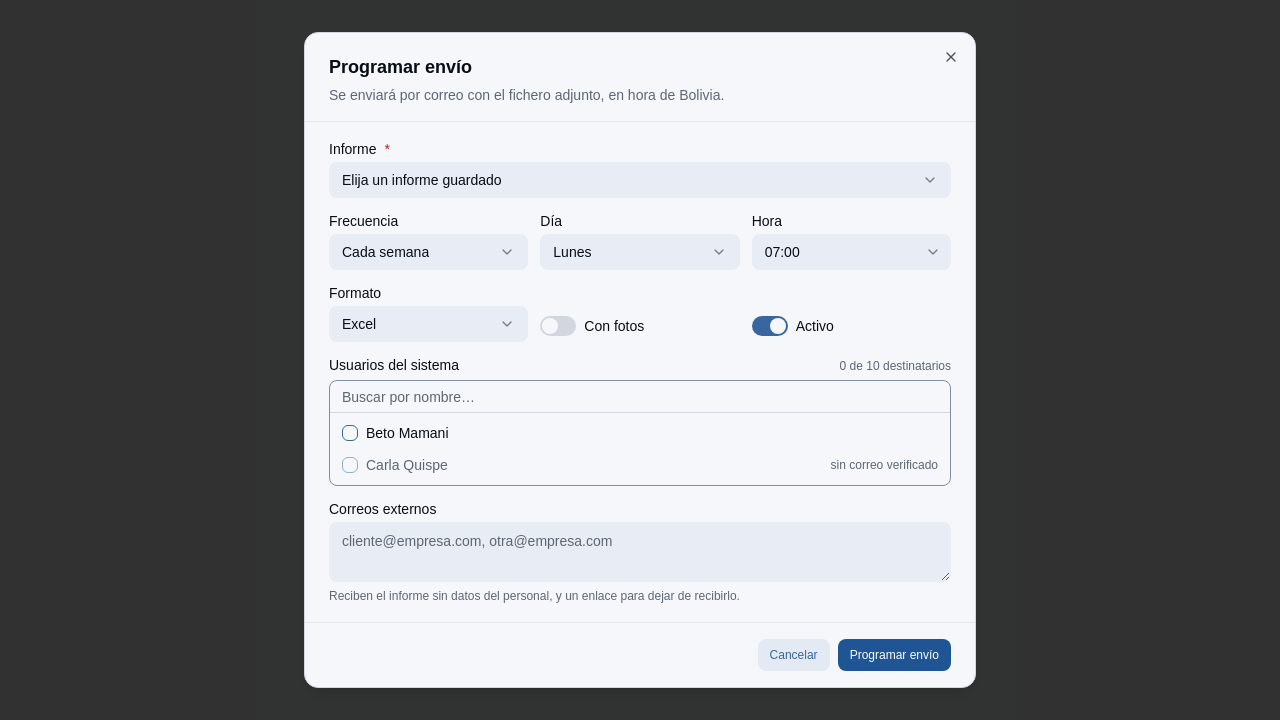
Test: the day field follows the frequency › offers photographs only for Excel
Expected: the text "Beto Mamani" is shown, 366,423 -> 448,443
Expected: the switch named "Con fotos" next to "Con fotos" is shown, 540,316 -> 576,336
What coordinates should you click on to do the following:
click the dropdown named "Formato"
I would click on:
 (429, 324)
Its box is 329,306 -> 528,342.
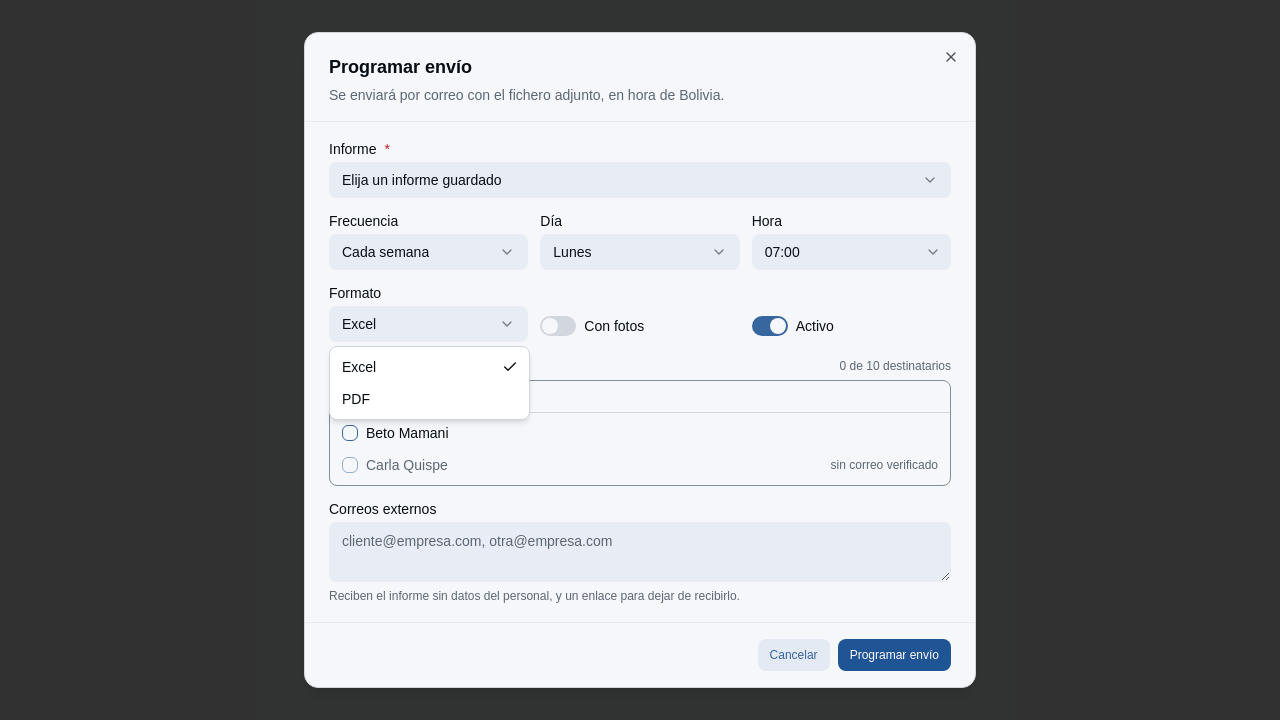
What coordinates should you click on to do the following:
click the option "PDF"
I would click on:
 (356, 399)
Its box is 342,391 -> 370,407.
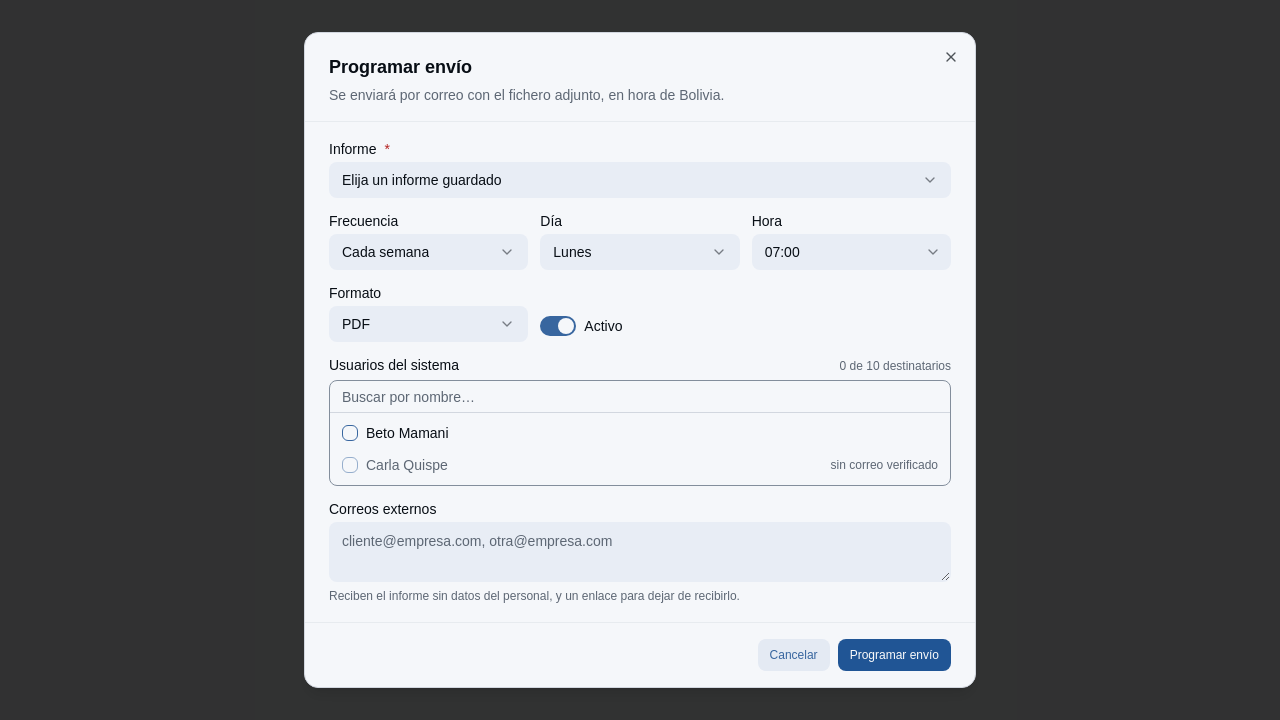
Expected: the label "Con fotos" is gone
